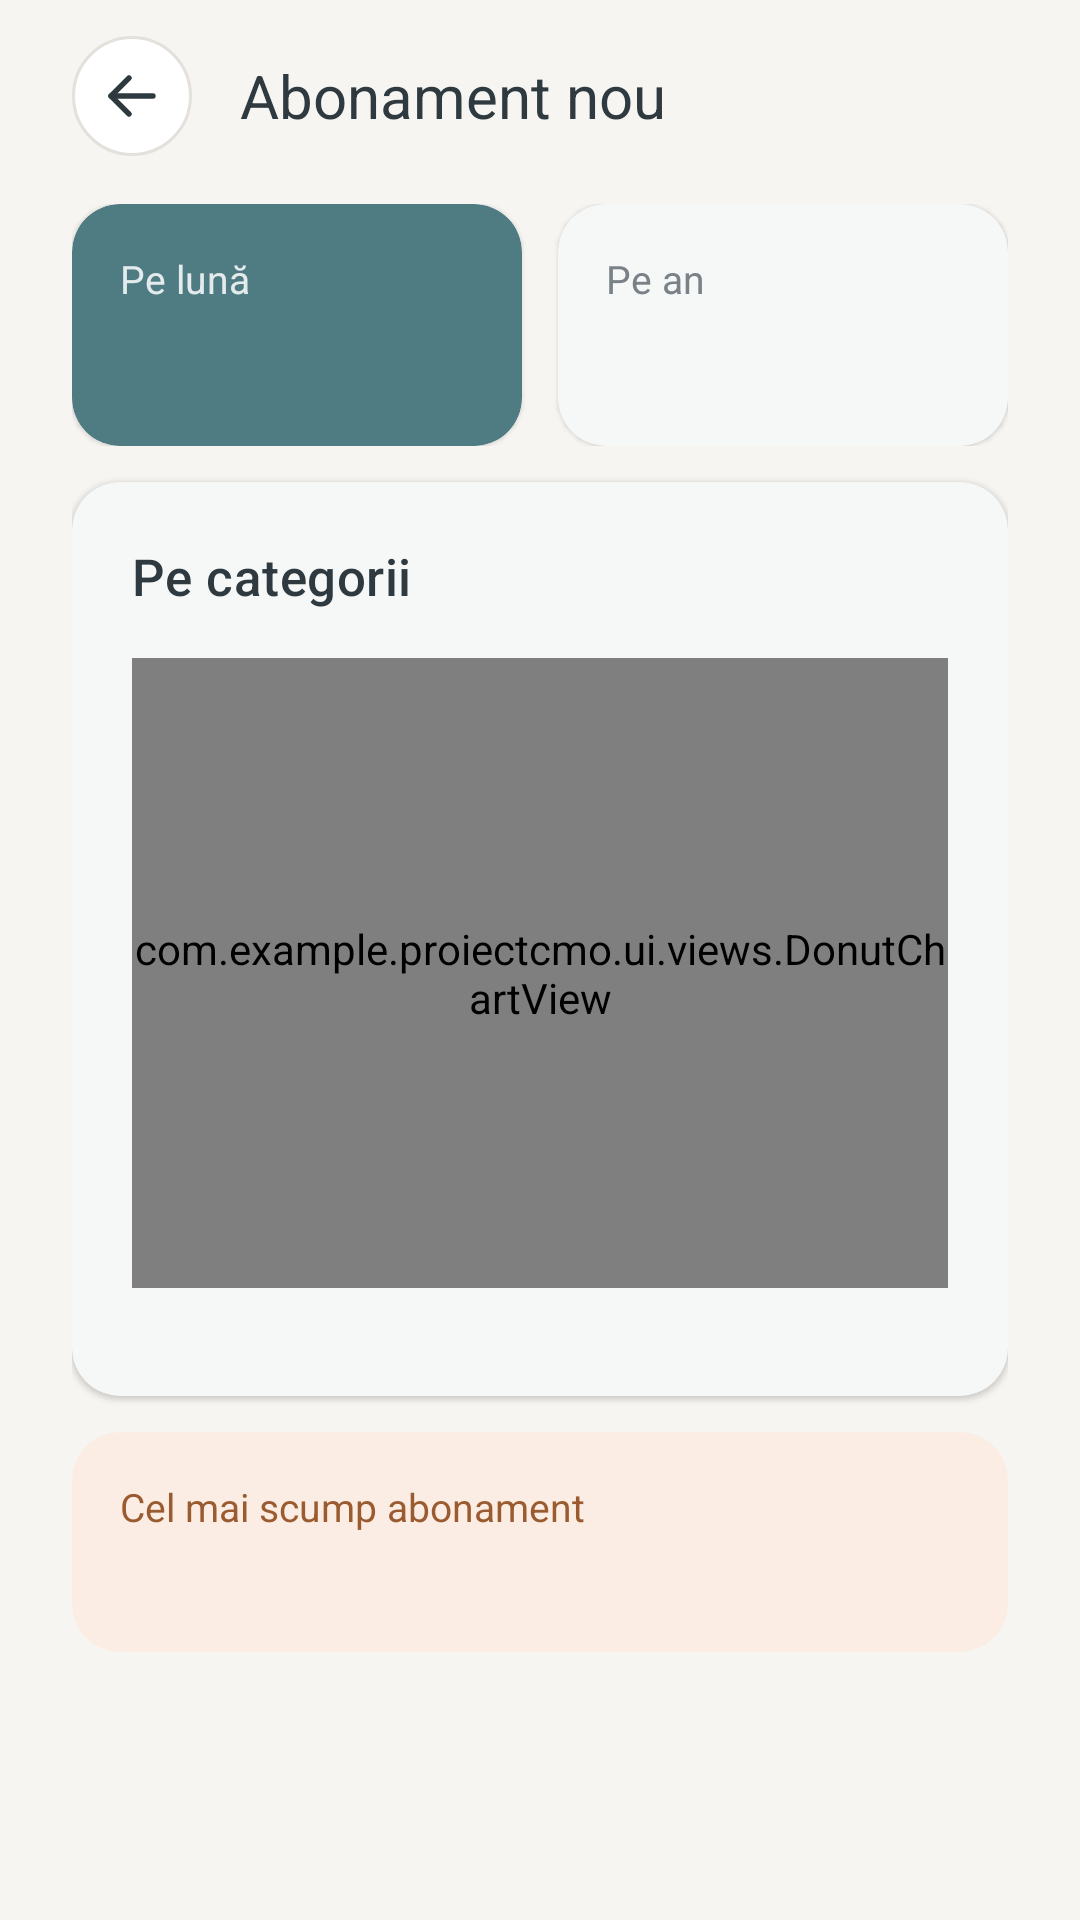

Icon bounding boxes for this 1080×1920 phone screenshot, format (x1, y1, x2, y2):
Înapoi: (72, 36, 192, 156)
